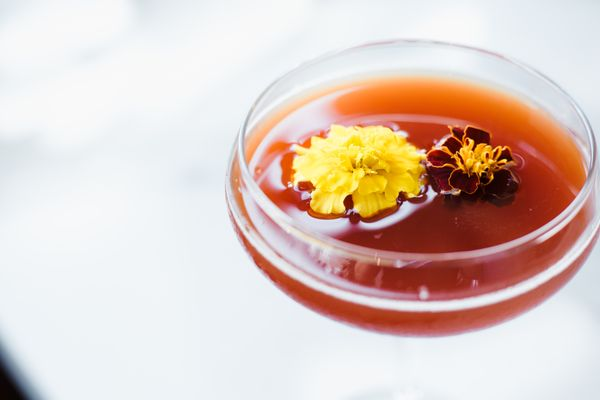sushi: (228, 37, 600, 330)
